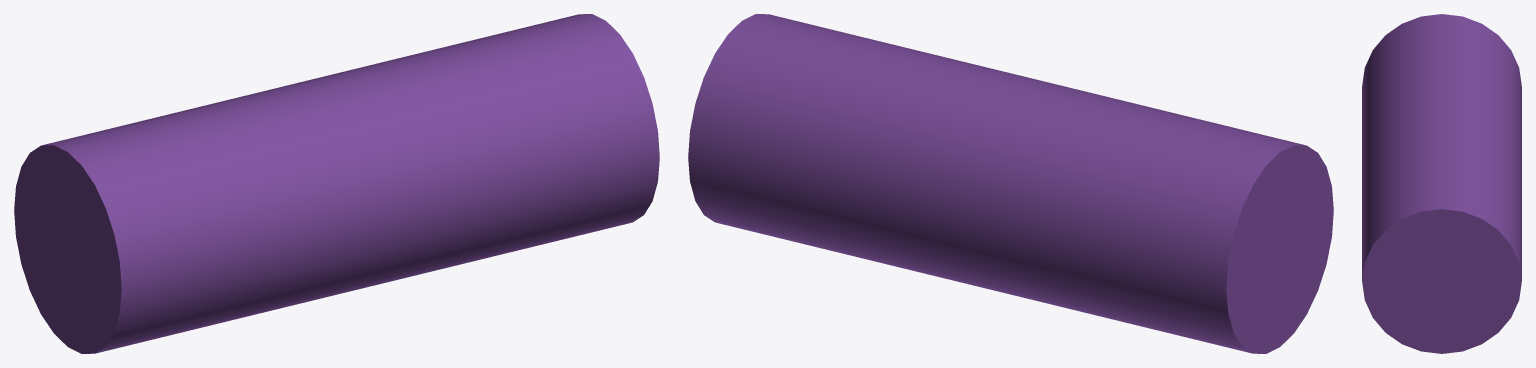
The model's file is decorado_rollo_de_tela.glb.
3 renders of one model, left to right at view 1: azimuth 30°, elevation 25°; view 2: azimuth 150°, elevation 25°; view 3: azimuth 270°, elevation 25°, orthographic. The views are drawn at different scales.
Parts seen in each view (by area): view 1: Rollo; view 2: Rollo; view 3: Rollo.
Part boxes in pixels (box(x1,y1,x2,y2)): Rollo: box(14, 14, 659, 353); Rollo: box(688, 14, 1333, 353); Rollo: box(1362, 14, 1521, 353).
Bounding box in the file's own units: 2.6 × 0.9 × 0.9.
